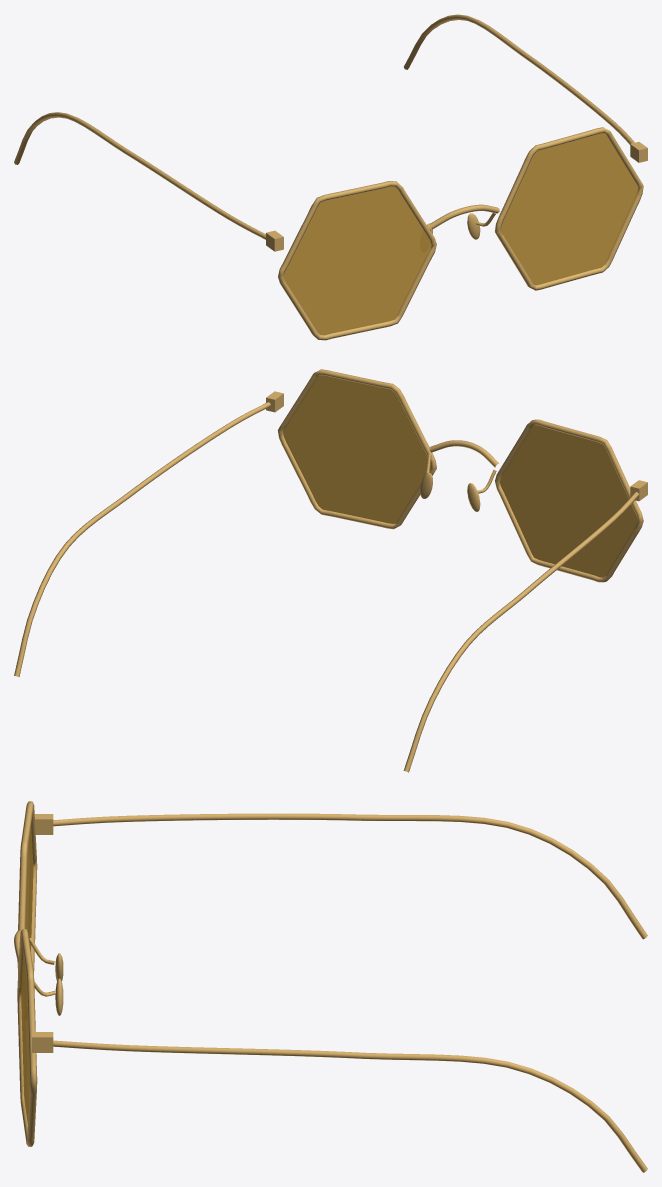
Rendered from NY-S05_Orbit_Gold_Gold_mirror_lens.glb.
3 renders of one model, top to bottom at view 1: azimuth 30°, elevation 25°; view 2: azimuth 150°, elevation 25°; view 3: azimuth 270°, elevation 25°, orthographic. The views are drawn at different scales.
Visible parts, largest first — view 1: Orbit_Gold_Gold_mirror_lens_Lenses, Orbit_Gold_Gold_mirror_lens_Metal; view 2: Orbit_Gold_Gold_mirror_lens_Lenses, Orbit_Gold_Gold_mirror_lens_Metal; view 3: Orbit_Gold_Gold_mirror_lens_Metal, Orbit_Gold_Gold_mirror_lens_Lenses.
Boxes of the visible parts, <box> form: Orbit_Gold_Gold_mirror_lens_Lenses: <box>283,133,638,335</box>; Orbit_Gold_Gold_mirror_lens_Metal: <box>14,14,647,340</box>; Orbit_Gold_Gold_mirror_lens_Lenses: <box>283,375,637,577</box>; Orbit_Gold_Gold_mirror_lens_Metal: <box>14,369,647,772</box>; Orbit_Gold_Gold_mirror_lens_Metal: <box>14,801,647,1172</box>; Orbit_Gold_Gold_mirror_lens_Lenses: <box>21,824,33,1123</box>.
Bounding box in the file's own units: 0.1391 × 0.0476 × 0.1538.
